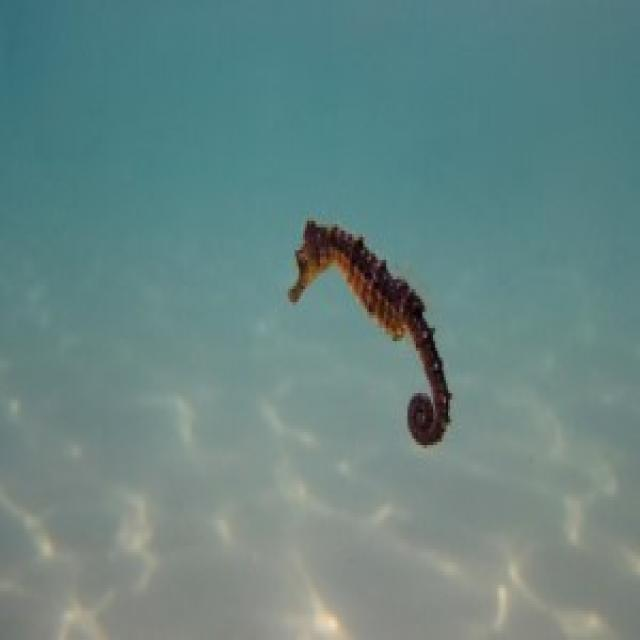Seahorse: (282, 216, 456, 461)
